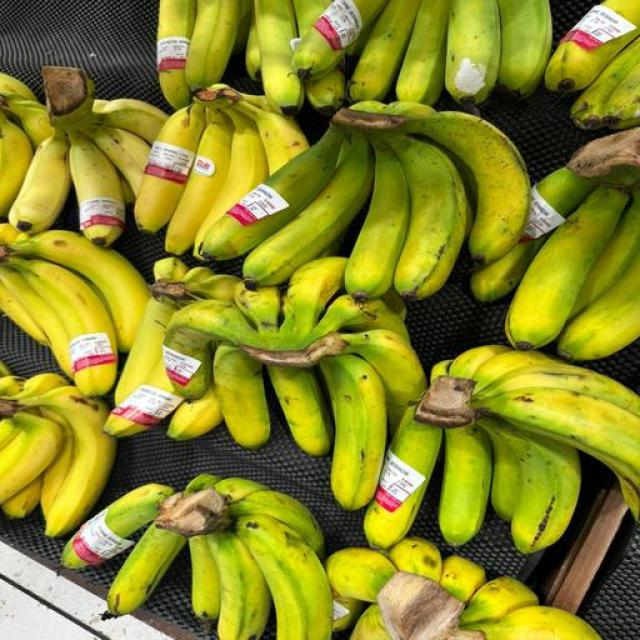organic: (1, 0, 640, 640), (243, 135, 373, 286), (507, 188, 628, 348), (197, 128, 343, 259), (479, 419, 581, 553), (387, 135, 467, 299), (237, 515, 332, 639), (364, 407, 442, 548), (345, 139, 411, 298), (320, 355, 387, 509), (107, 524, 186, 614), (349, 0, 419, 101), (208, 533, 271, 639), (229, 490, 324, 557), (395, 0, 449, 104), (327, 548, 397, 602), (105, 484, 173, 538)
